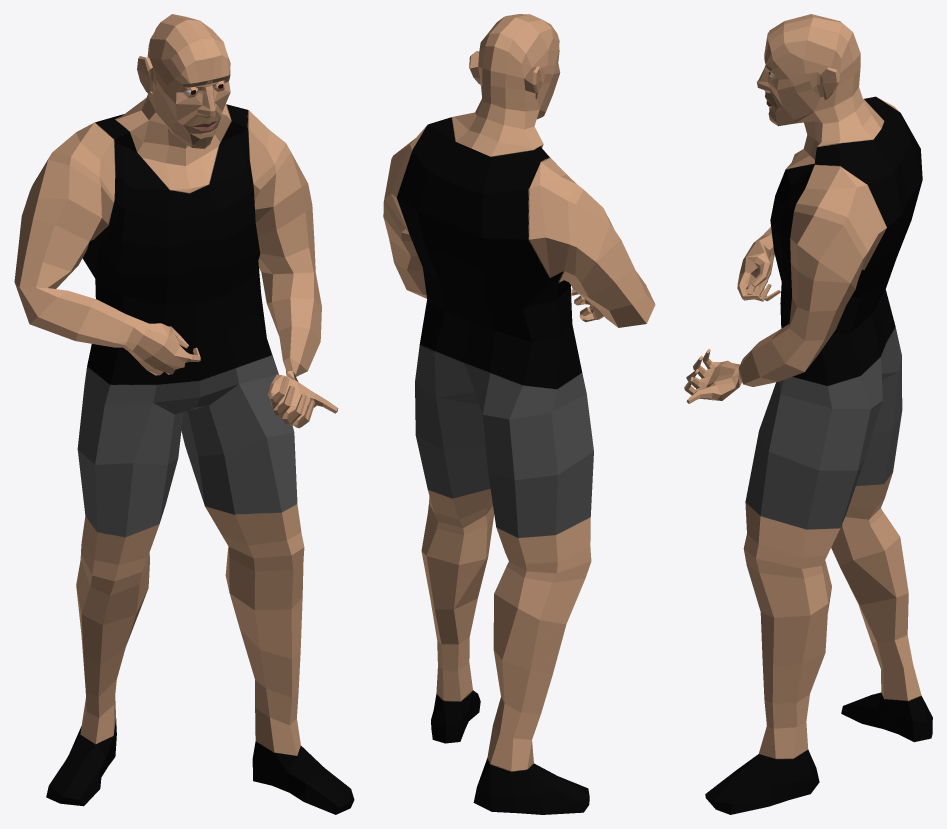
File: PlayerIdle(32).obj
3 renders of one model, left to right at view 1: azimuth 30°, elevation 25°; view 2: azimuth 150°, elevation 25°; view 3: azimuth 270°, elevation 25°, orthographic. The views are drawn at different scales.
Visible parts, largest first — view 1: Plane002; view 2: Plane002; view 3: Plane002.
Part boxes in pixels (x1,y1,x2,y2): Plane002: [14, 14, 354, 814]; Plane002: [383, 14, 655, 814]; Plane002: [684, 14, 932, 814].
Size of the model in its own units: 675 by 1808 by 551.
